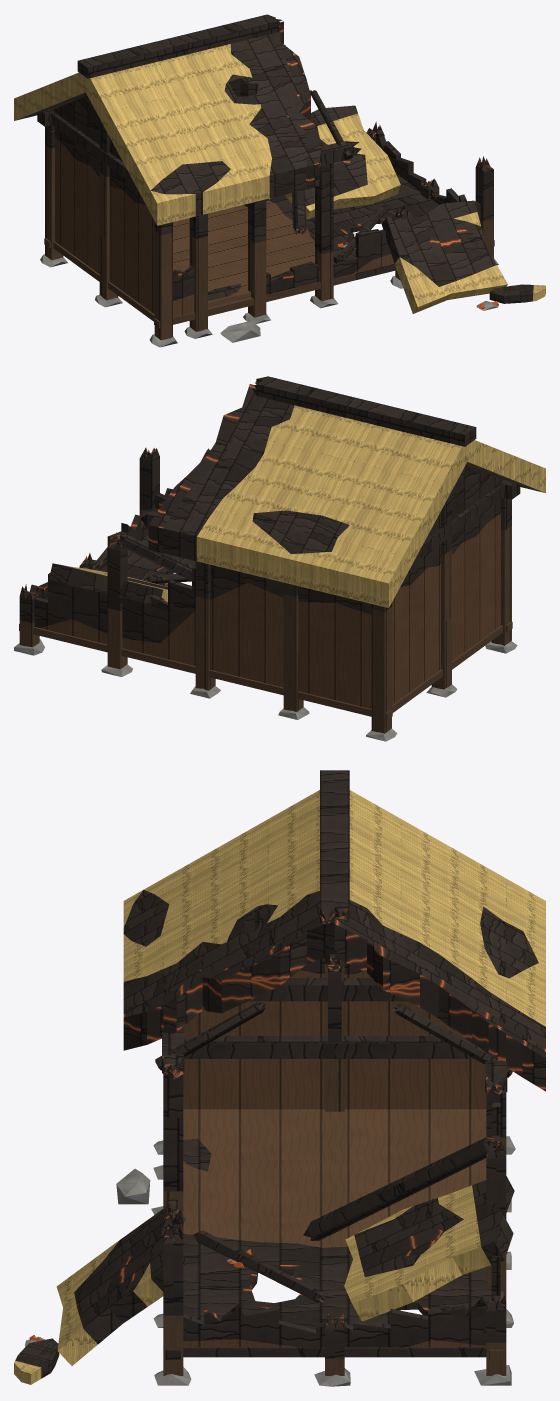
Rendered from oni_house_a.fbx.
3 renders of one model, top to bottom at view 1: azimuth 30°, elevation 25°; view 2: azimuth 150°, elevation 25°; view 3: azimuth 270°, elevation 25°, orthographic. The views are drawn at different scales.
Visible parts, largest first — view 1: oni_house_a_Roof, oni_house_a_Frame, oni_house_a_Walls, oni_house_a_Debris, oni_house_a_Floor, oni_house_a_Stone; view 2: oni_house_a_Roof, oni_house_a_Walls, oni_house_a_Frame, oni_house_a_Debris, oni_house_a_Stone, oni_house_a_Floor; view 3: oni_house_a_Roof, oni_house_a_Floor, oni_house_a_Walls, oni_house_a_Debris, oni_house_a_Frame, oni_house_a_Stone.
Part boxes in pixels (x1,y1,x2,y2): oni_house_a_Roof: (14, 14, 351, 225); oni_house_a_Frame: (37, 108, 494, 340); oni_house_a_Walls: (52, 96, 480, 317); oni_house_a_Debris: (244, 105, 545, 313); oni_house_a_Floor: (173, 173, 439, 307); oni_house_a_Stone: (40, 254, 498, 347); oni_house_a_Roof: (148, 376, 545, 607); oni_house_a_Walls: (29, 466, 503, 708); oni_house_a_Frame: (19, 447, 520, 733); oni_house_a_Debris: (49, 488, 193, 604); oni_house_a_Stone: (14, 639, 517, 741); oni_house_a_Floor: (99, 535, 195, 586); oni_house_a_Roof: (123, 770, 545, 1091); oni_house_a_Floor: (183, 1109, 491, 1329); oni_house_a_Walls: (168, 958, 500, 1347); oni_house_a_Debris: (14, 1137, 514, 1384); oni_house_a_Frame: (162, 958, 507, 1375); oni_house_a_Stone: (116, 1136, 515, 1386).
Bounding box in the file's own units: 24.68 × 15.94 × 21.41.
1 material, 1 textured.
